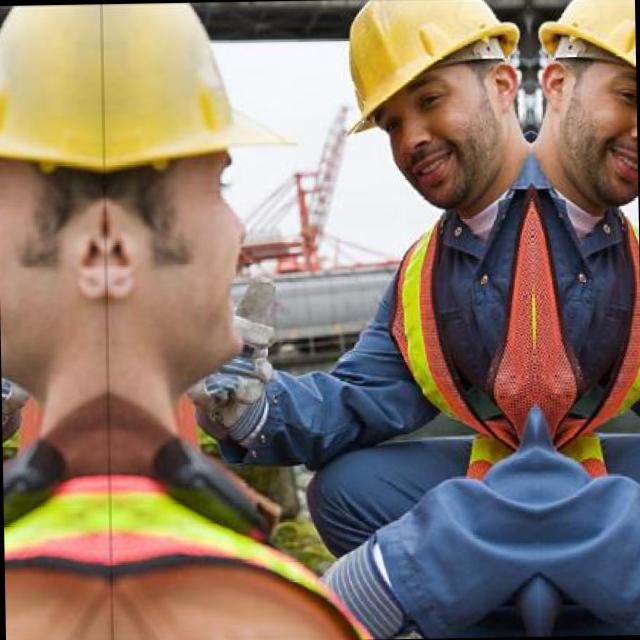helmet: (100, 1, 276, 404), (315, 0, 529, 218), (0, 4, 109, 407), (528, 0, 635, 216)
